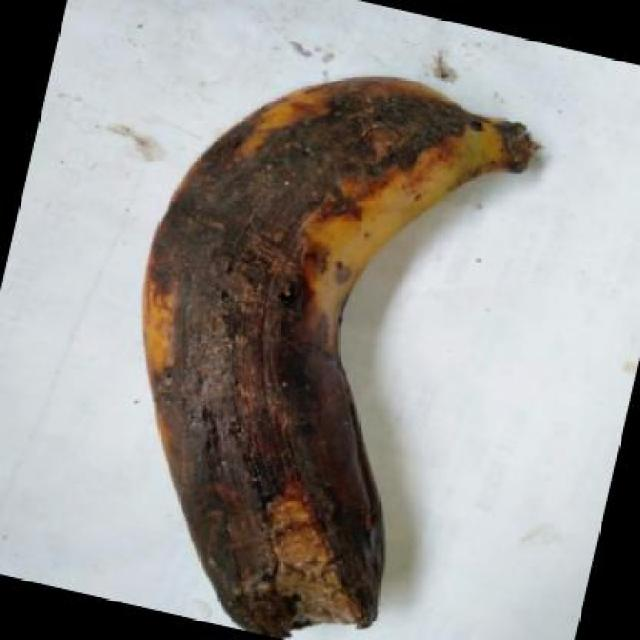Rotten: (114, 50, 555, 640)
